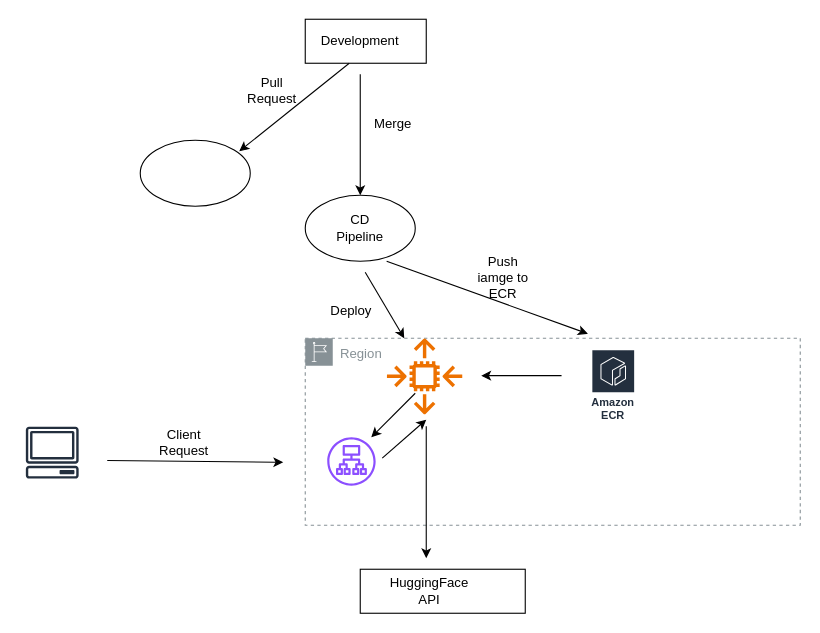
Some shapes in this 820 by 633 pixel diagram are drawn without their labels. Here are the shapes that lost their labels. From the top down, the box of each, then its label:
(139, 139, 250, 206): CI Pipeline
(18, 419, 85, 486): Client
